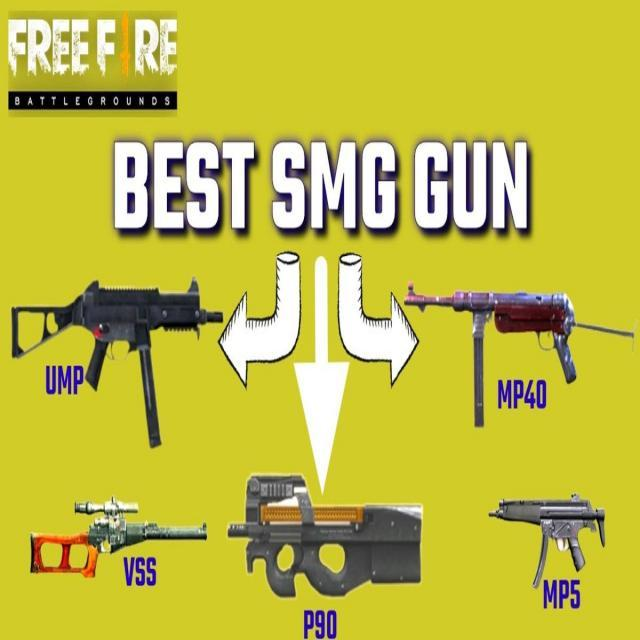smg: (13, 265, 221, 469), (399, 263, 602, 439), (225, 469, 437, 602), (485, 479, 622, 589)
sniper rifle: (29, 481, 213, 614)
